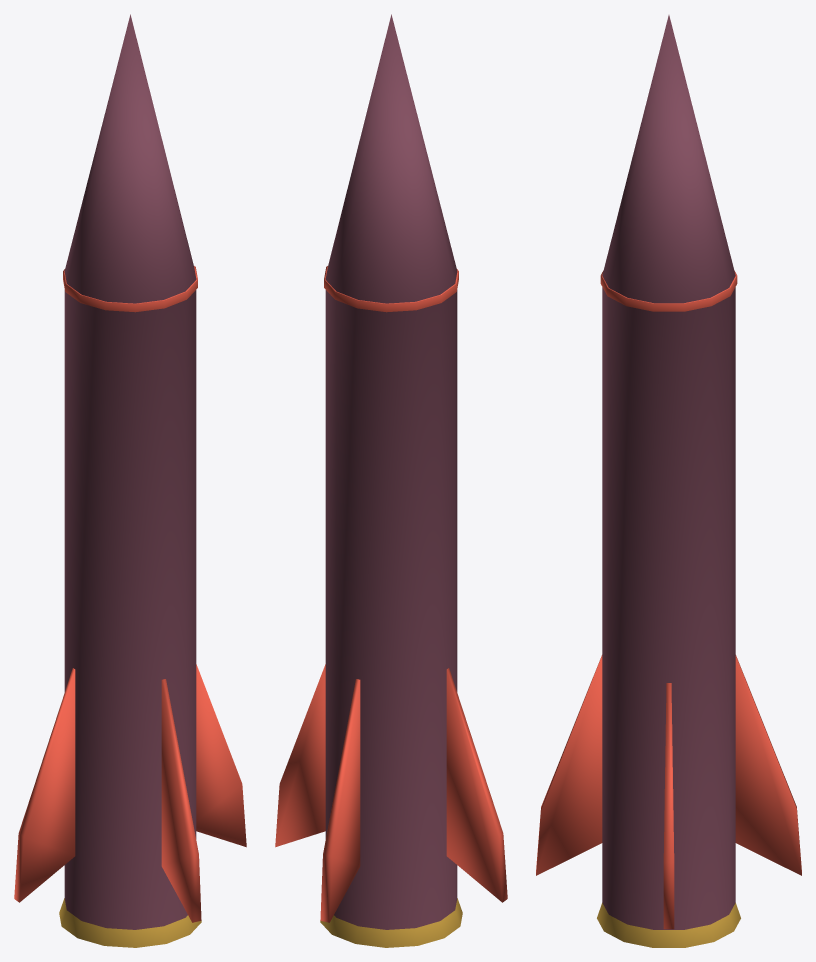
The model's file is missile fbx.fbx.
The picture shows the model from 3 angles, left to right: view 1: azimuth 30°, elevation 25°; view 2: azimuth 150°, elevation 25°; view 3: azimuth 270°, elevation 25°; orthographic projection.
Visible parts, largest first — view 1: missile, ali; view 2: missile, ali; view 3: missile, ali.
Boxes of the visible parts, x1,y1,x2,y2 form: missile: (59, 14, 201, 947); ali: (14, 664, 246, 922); missile: (320, 14, 462, 947); ali: (275, 664, 507, 922); missile: (597, 15, 740, 947); ali: (536, 655, 801, 929).
Bounding box in the file's own units: 394 × 1495 × 399.
